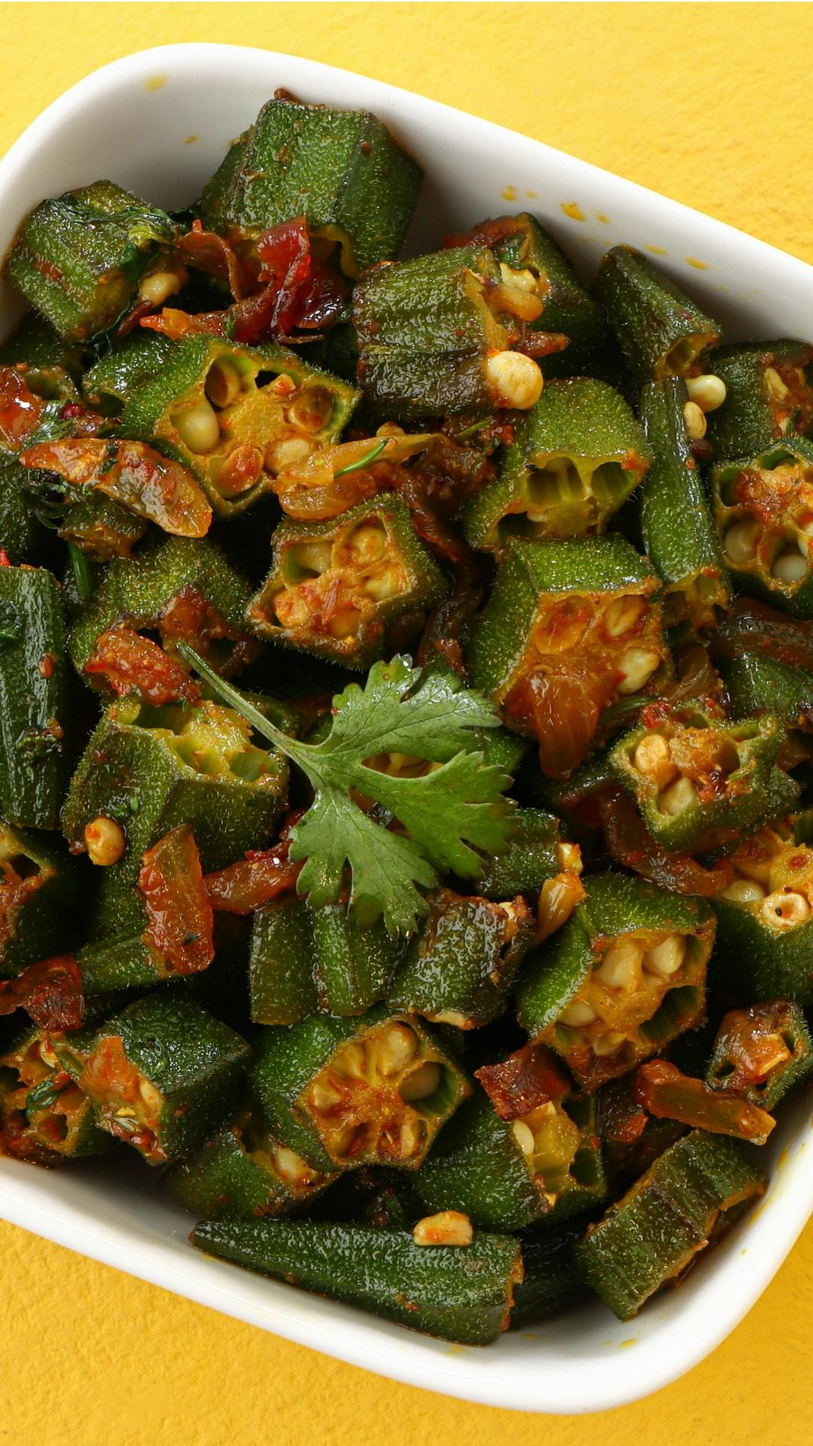bhindi: (31, 174, 811, 1219)
